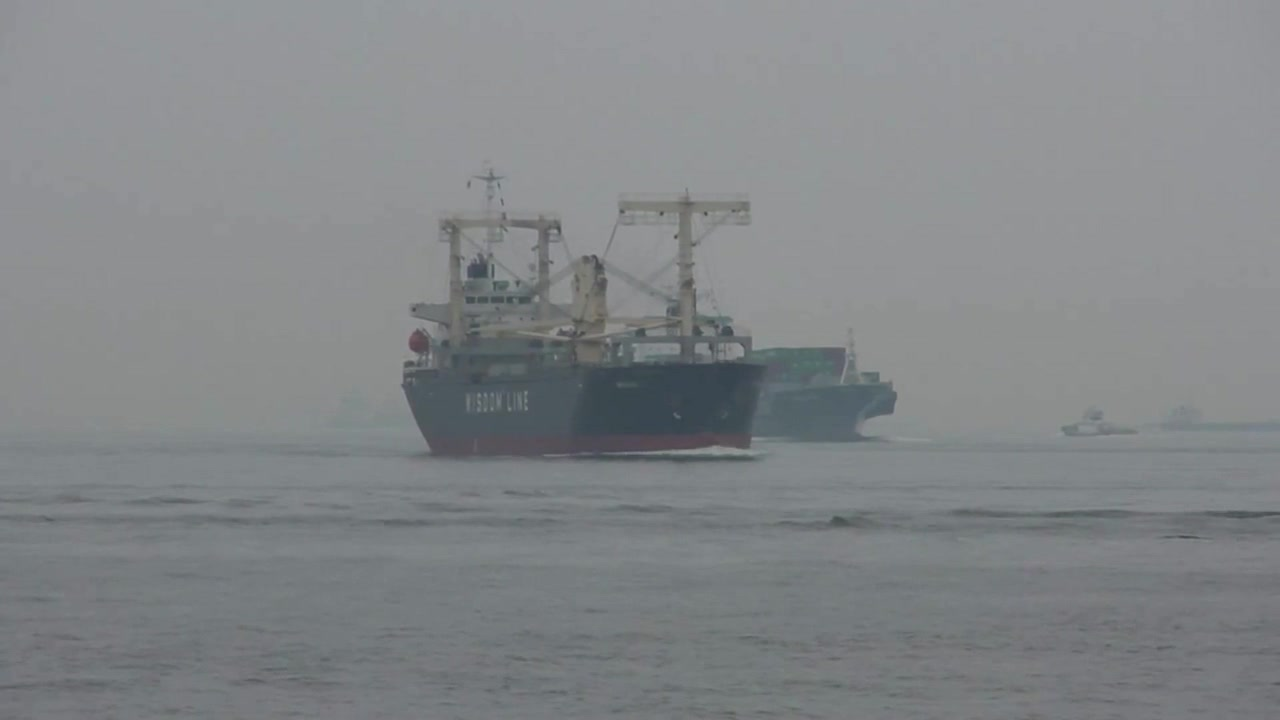boat: (402, 168, 780, 460)
